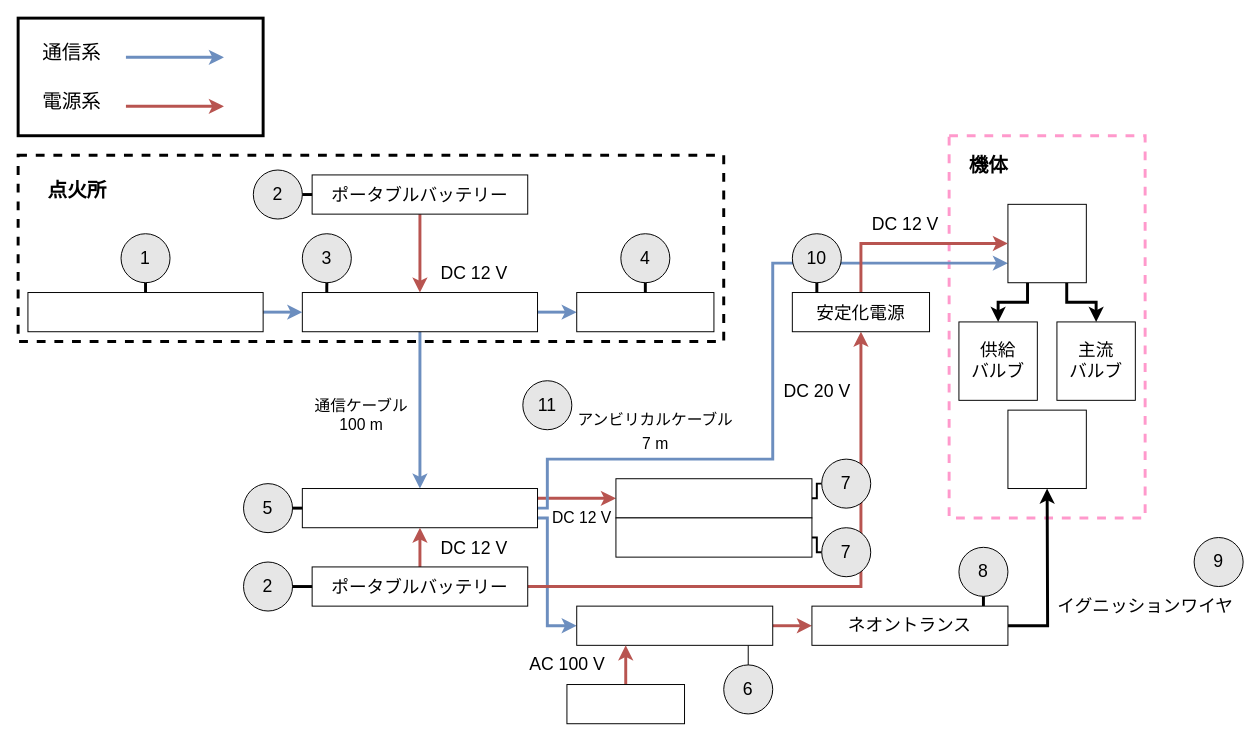
Image size: 1260x741. Some labels were removed from this diagram. Here are the shapes that lost their labels. From the top down, the centre of each, then its label:
the point at 1046,243: 搭載計器
the point at 145,312: 充填確認スイッチ（x3）
the point at 419,312: ランチコントローラー
the point at 645,312: スピーカー
the point at 1046,449: モータ
the point at 419,508: サテライトコントローラー
the point at 713,498: 電磁弁ユニット
the point at 713,537: 空圧弁ユニット
the point at 674,625: こもあユニット
the point at 625,704: 発電機
